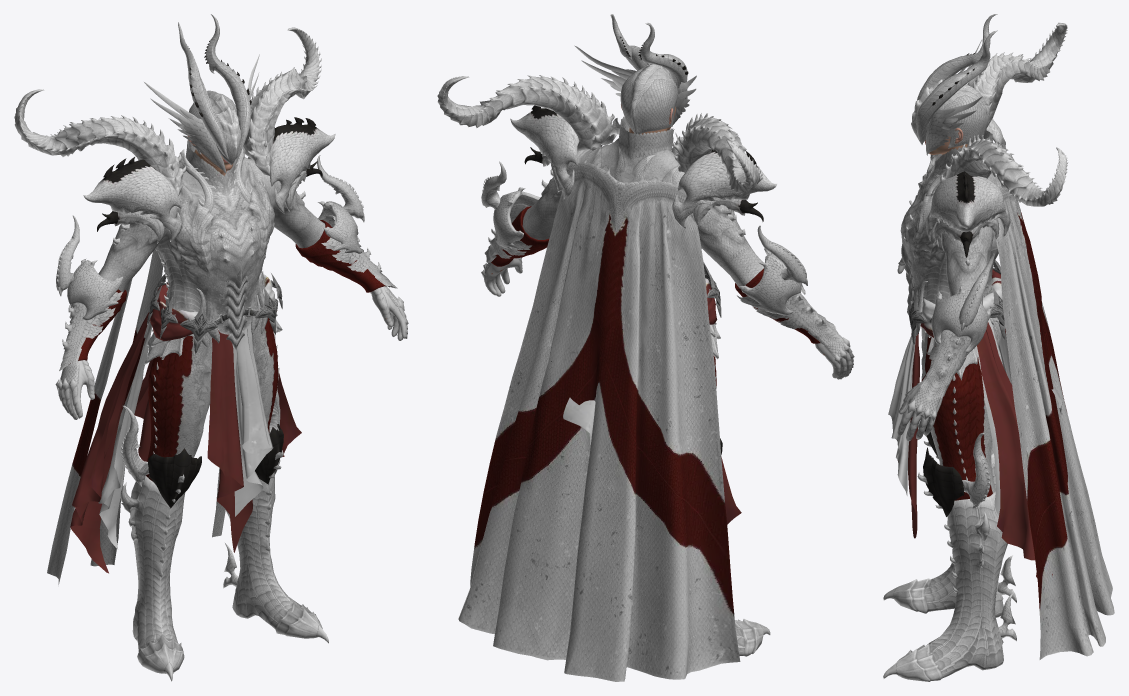
3 views of the same model, side by side, from view 1: azimuth 30°, elevation 25°; view 2: azimuth 150°, elevation 25°; view 3: azimuth 270°, elevation 25° (orthographic). The views are drawn at different scales.
Parts seen in each view (by area): view 1: GM_0045_T05_Body, GM_0045_T05_Boots, GM_0045_T05_Shoulder, GM_0045_T05_Glove, GM_0045_T05_Pants, GM_0045_T05_Helmet, GM_0045_T05_Cape; view 2: GM_0045_T05_Cape, GM_0045_T05_Shoulder, GM_0045_T05_Body, GM_0045_T05_Glove, GM_0045_T05_Helmet, GM_0045_T05_Boots; view 3: GM_0045_T05_Cape, GM_0045_T05_Body, GM_0045_T05_Boots, GM_0045_T05_Shoulder, GM_0045_T05_Glove, GM_0045_T05_Helmet, GM_0045_T05_Pants.
Part boxes in pixels (bbox=[...]): GM_0045_T05_Body: bbox=[70, 139, 386, 573]; GM_0045_T05_Boots: bbox=[120, 368, 328, 681]; GM_0045_T05_Shoulder: bbox=[14, 27, 335, 243]; GM_0045_T05_Glove: bbox=[55, 155, 408, 419]; GM_0045_T05_Pants: bbox=[146, 318, 278, 481]; GM_0045_T05_Helmet: bbox=[144, 14, 259, 173]; GM_0045_T05_Cape: bbox=[47, 249, 225, 584]; GM_0045_T05_Cape: bbox=[458, 158, 740, 681]; GM_0045_T05_Shoulder: bbox=[437, 75, 776, 228]; GM_0045_T05_Body: bbox=[491, 116, 824, 524]; GM_0045_T05_Glove: bbox=[481, 161, 854, 379]; GM_0045_T05_Helmet: bbox=[574, 14, 696, 134]; GM_0045_T05_Boots: bbox=[720, 438, 770, 656]; GM_0045_T05_Cape: bbox=[996, 182, 1114, 659]; GM_0045_T05_Body: bbox=[888, 129, 1062, 577]; GM_0045_T05_Boots: bbox=[883, 423, 1016, 681]; GM_0045_T05_Shoulder: bbox=[926, 22, 1067, 257]; GM_0045_T05_Glove: bbox=[897, 139, 994, 441]; GM_0045_T05_Helmet: bbox=[911, 14, 997, 155]; GM_0045_T05_Pants: bbox=[921, 321, 1001, 500].
Bounding box in the file's own units: 1.26 × 2.12 × 0.721.
Materials: 10 (9 with a texture image).
